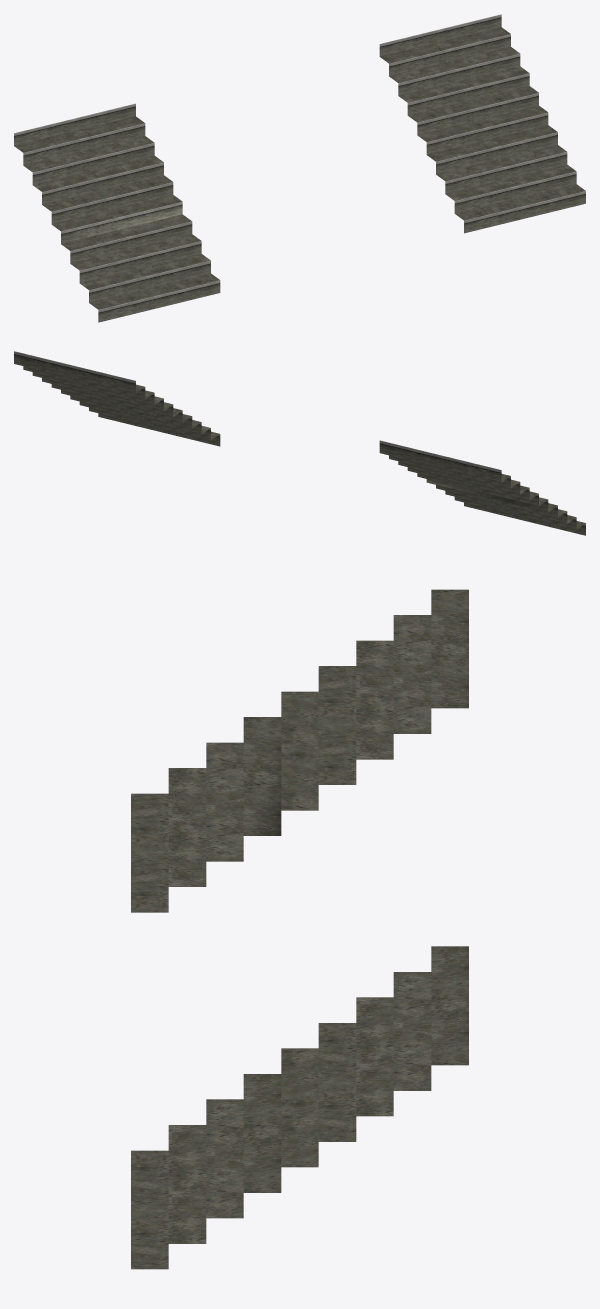
Rendered from DWARF_PALACE_MAINHALL_STAIRS_02.fbx.
The picture shows the model from 3 angles, top to bottom: view 1: azimuth 30°, elevation 25°; view 2: azimuth 150°, elevation 25°; view 3: azimuth 270°, elevation 25°; orthographic projection. The views are drawn at different scales.
Visible parts, largest first — view 1: DWARF_PALACE_MAINHALL_STAIRS_02; view 2: DWARF_PALACE_MAINHALL_STAIRS_02; view 3: DWARF_PALACE_MAINHALL_STAIRS_02.
Boxes of the visible parts, x1=… form: DWARF_PALACE_MAINHALL_STAIRS_02: x1=14, y1=14, x2=585, y2=322; DWARF_PALACE_MAINHALL_STAIRS_02: x1=14, y1=351, x2=585, y2=535; DWARF_PALACE_MAINHALL_STAIRS_02: x1=131, y1=589, x2=468, y2=1269.
Bounding box in the file's own units: 120000 × 30000 × 36000.
Materials: 2 (2 with a texture image).
